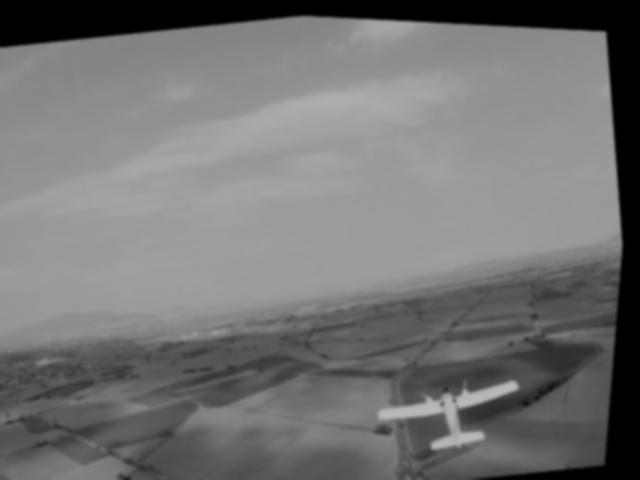hedef: (368, 355, 543, 472)
